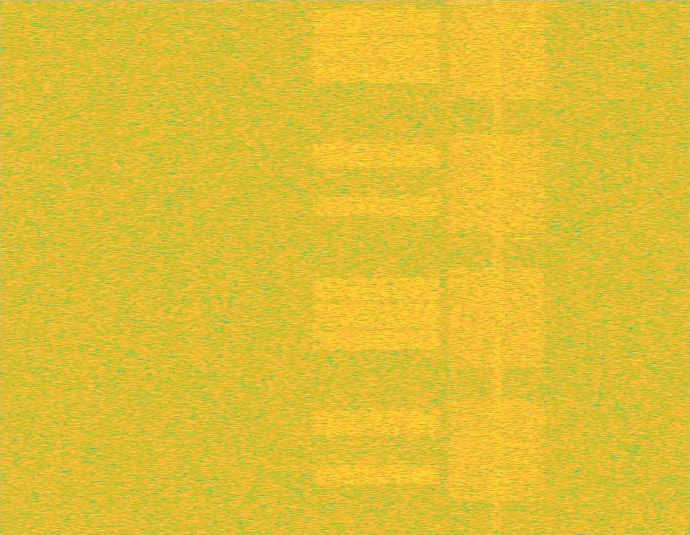5G: (445, 0, 549, 534)
DSSS: (490, 0, 504, 534)
LTE: (307, 0, 445, 534)
Radar: (516, 0, 530, 534)
